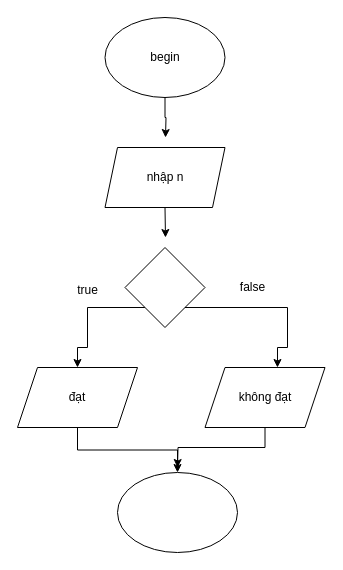
Some shapes in this 343 by 570 pixel diagram are drawn without their labels. The box of each missing label's shape, as (x1, y1, x2, y2) in pixels:
end: (116, 472, 238, 552)
n => 5 ?: (124, 246, 205, 328)
